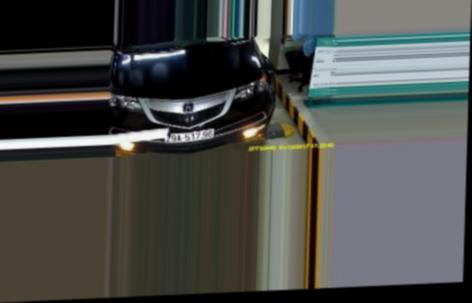License_Plate: (166, 128, 216, 144)
